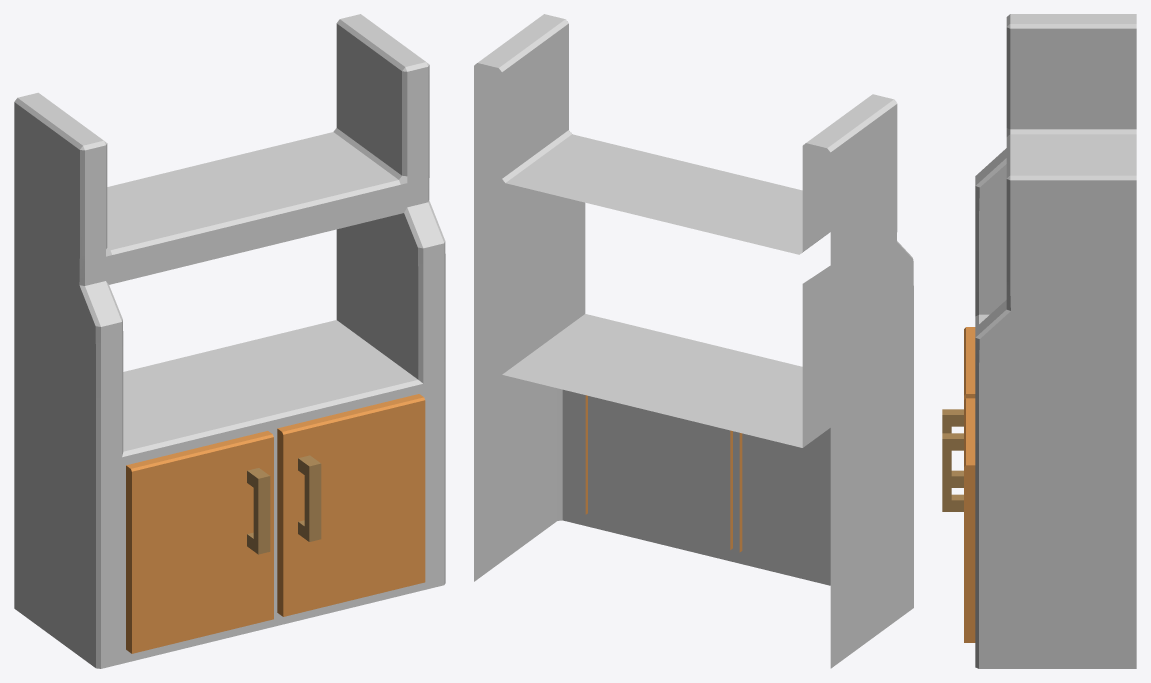
File: propsMaison_Bibliotheque.fbx
3 renders of one model, left to right at view 1: azimuth 30°, elevation 25°; view 2: azimuth 150°, elevation 25°; view 3: azimuth 270°, elevation 25°, orthographic. The views are drawn at different scales.
Visible parts, largest first — view 1: scale; view 2: scale; view 3: scale.
Boxes of the visible parts, bbox=[...] form: scale: bbox=[14, 14, 445, 668]; scale: bbox=[474, 14, 913, 668]; scale: bbox=[942, 14, 1136, 668].
Size of the model in its own units: 241 by 483 by 673.
